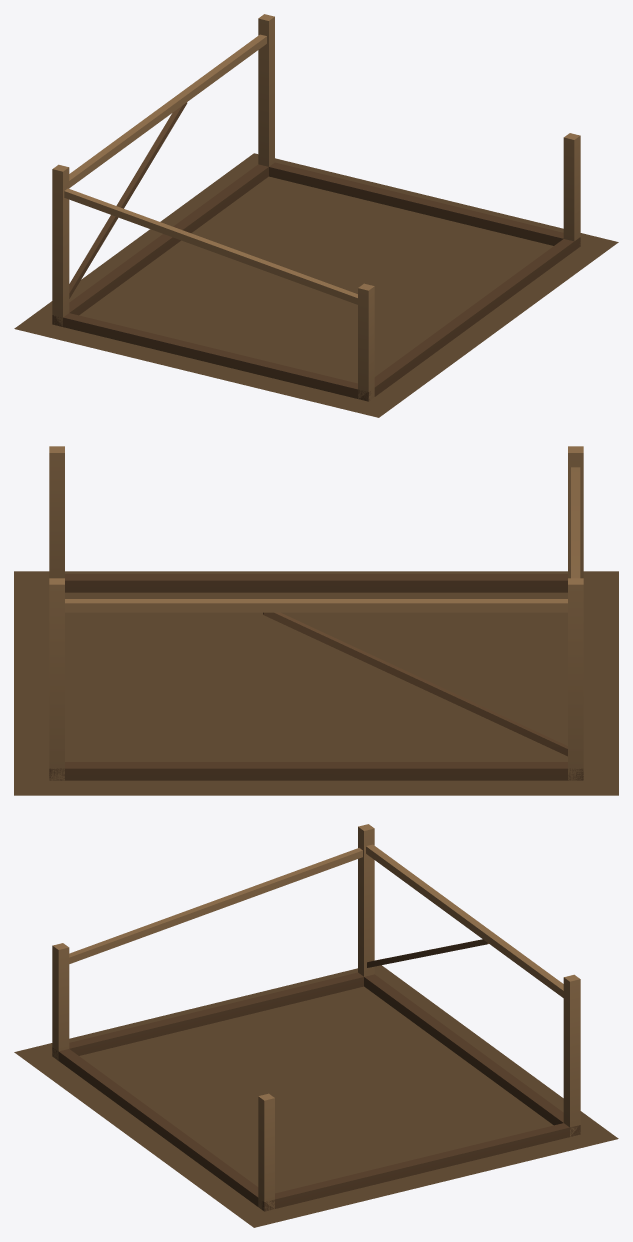
Rendered from site_large.glb.
The picture shows the model from 3 angles, top to bottom: view 1: azimuth 30°, elevation 25°; view 2: azimuth 150°, elevation 25°; view 3: azimuth 270°, elevation 25°; orthographic projection. The views are drawn at different scales.
Parts seen in each view (by area): view 1: site_large; view 2: site_large; view 3: site_large.
Part boxes in pixels (<box>): site_large: <box>14,14,618,417</box>; site_large: <box>14,446,618,795</box>; site_large: <box>14,824,618,1227</box>.
Bounding box in the file's own units: 1.53 × 0.42 × 1.48.
